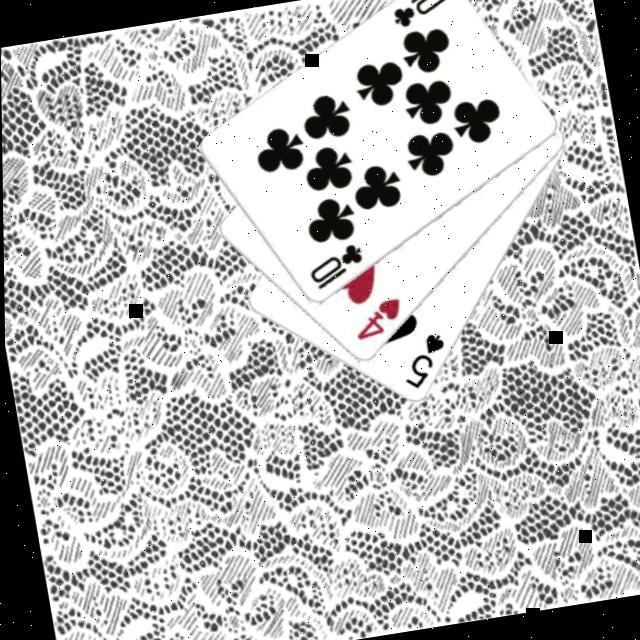10C: (300, 240, 370, 296), (384, 0, 452, 33)
4H: (346, 296, 407, 346)
5S: (393, 330, 452, 395)
